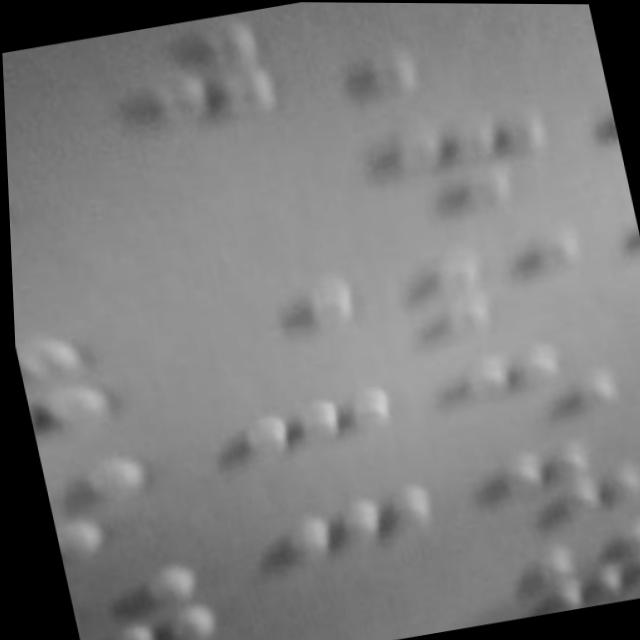braiile: (360, 98, 567, 230), (440, 319, 632, 446), (221, 373, 407, 500), (264, 474, 447, 602), (192, 266, 379, 385), (411, 224, 591, 344), (466, 422, 640, 536), (493, 510, 640, 619), (37, 449, 166, 566), (59, 549, 218, 640), (11, 320, 114, 438)
